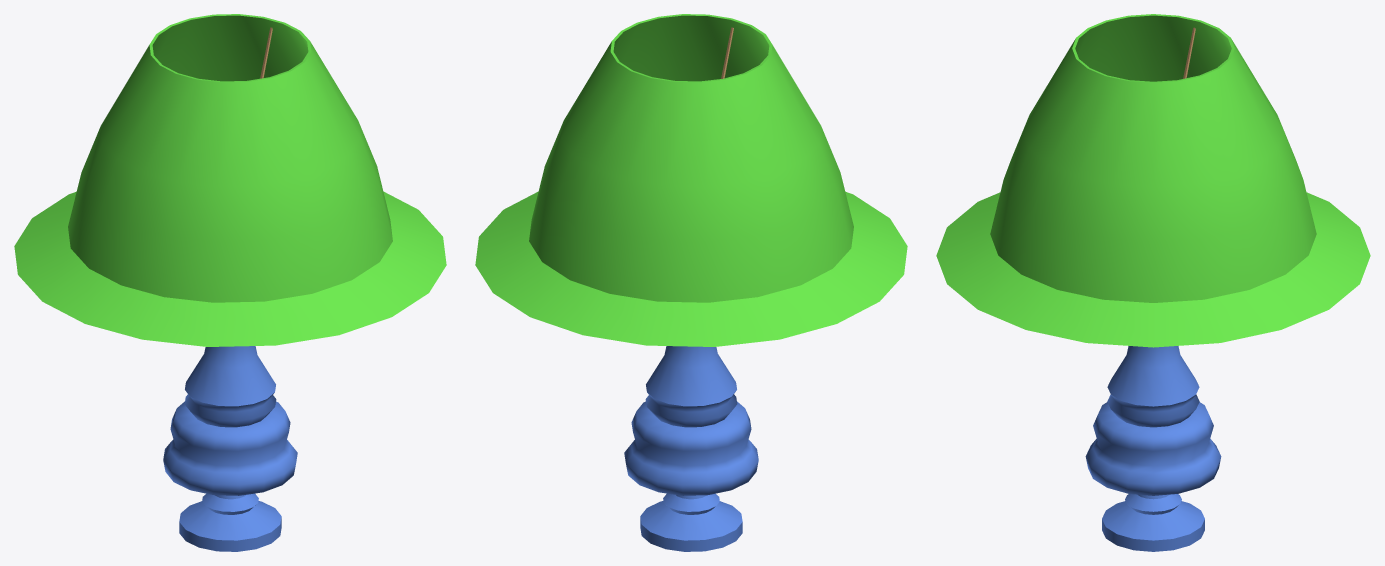
The model's file is lamp.fbx.
3 views of the same model, side by side, from view 1: azimuth 30°, elevation 25°; view 2: azimuth 150°, elevation 25°; view 3: azimuth 270°, elevation 25° (orthographic).
Parts seen in each view (by area): view 1: Top, Body; view 2: Top, Body; view 3: Top, Body.
Boxes of the visible parts, bbox=[...] form: Top: bbox=[14, 14, 446, 346]; Body: bbox=[163, 346, 297, 551]; Top: bbox=[475, 14, 907, 346]; Body: bbox=[624, 346, 758, 551]; Top: bbox=[936, 14, 1370, 347]; Body: bbox=[1085, 346, 1221, 551].
Size of the model in its own units: 63.59 by 77.82 by 63.59.
